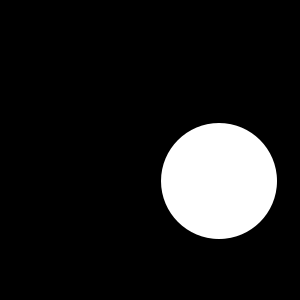rectangle: (161, 123, 277, 239)
